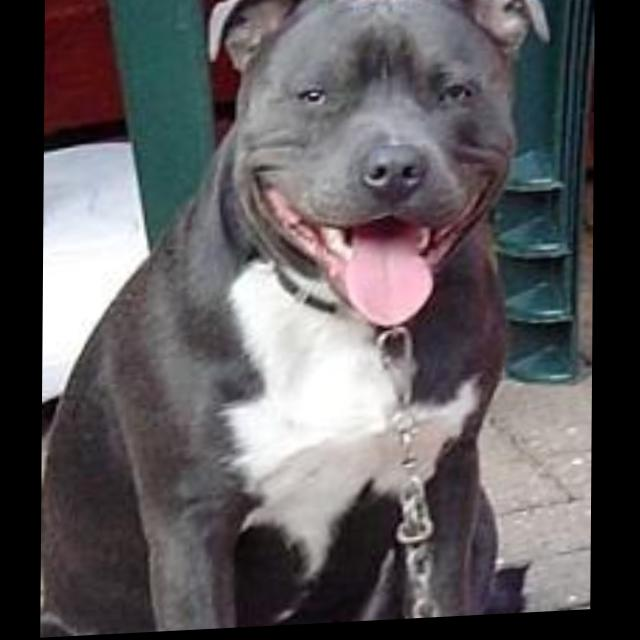staffford: (43, 1, 552, 639)
